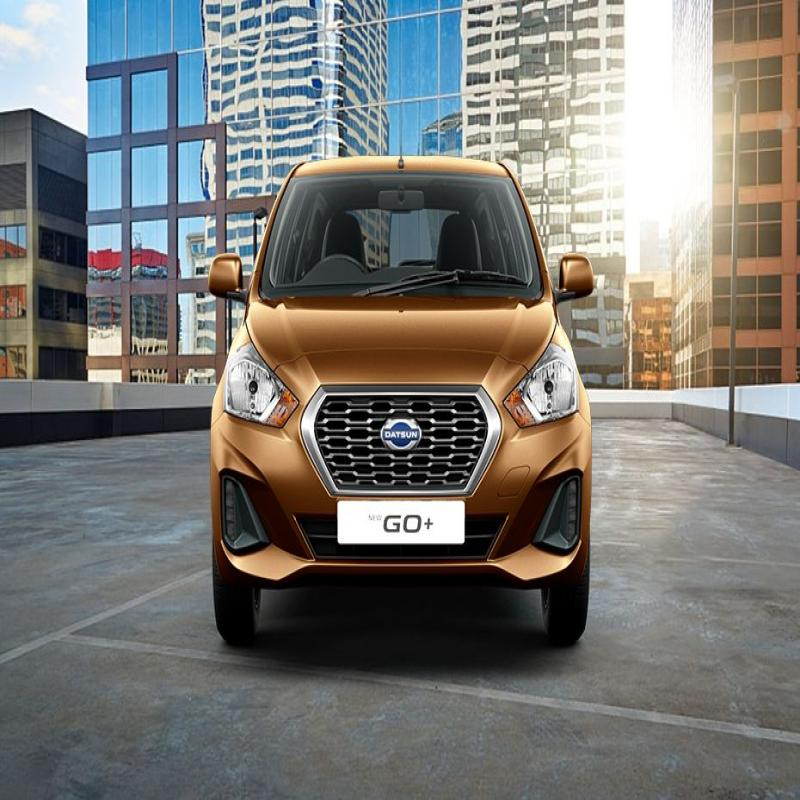car: (195, 140, 610, 673)
